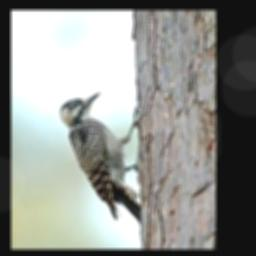Woodpecker: (57, 92, 150, 227)
